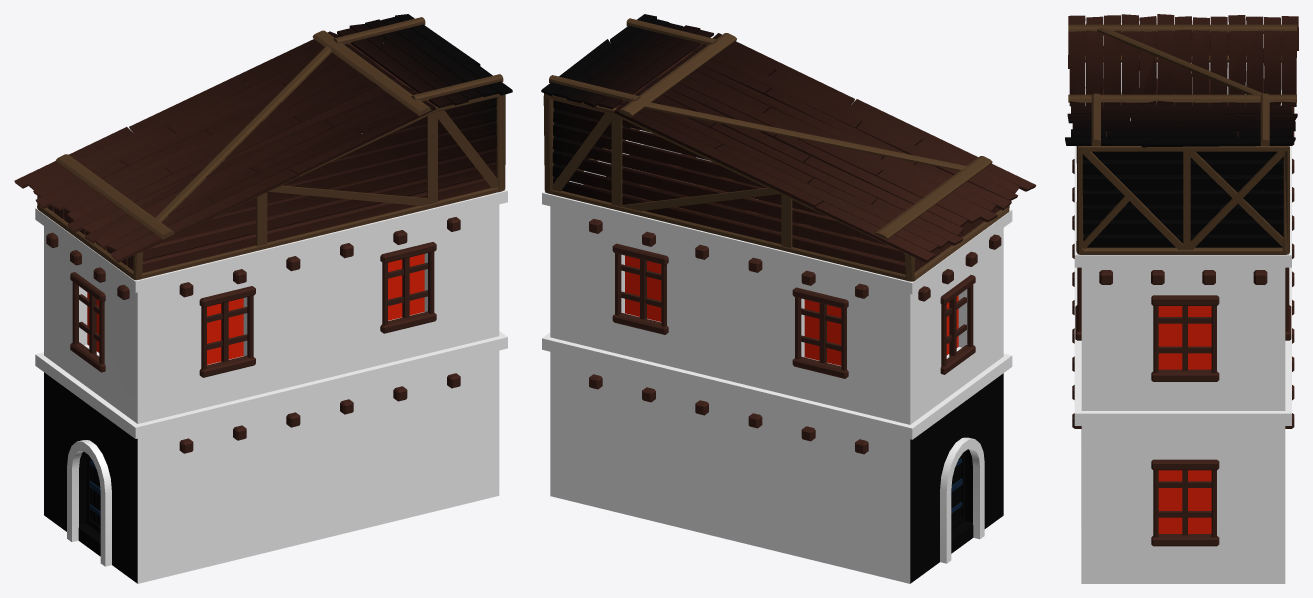
The model's file is civilian_house_34_i.FBX.
3 views of the same model, side by side, from view 1: azimuth 30°, elevation 25°; view 2: azimuth 150°, elevation 25°; view 3: azimuth 270°, elevation 25° (orthographic). The views are drawn at different scales.
Visible parts, largest first — view 1: civilian_house_34_i; view 2: civilian_house_34_i; view 3: civilian_house_34_i.
Boxes of the visible parts, x1,y1,x2,y2 form: civilian_house_34_i: (14, 14, 512, 583); civilian_house_34_i: (541, 14, 1036, 583); civilian_house_34_i: (1065, 14, 1298, 583).
Bounding box in the file's own units: 1104 × 1093 × 516.
